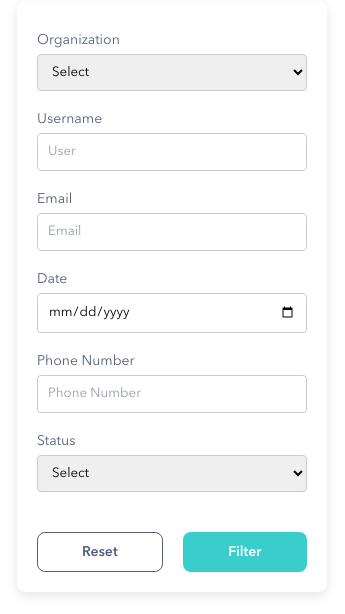
Test case: FilterPopup Component › resets filters on Reset button click
Type "testUser" into the field labelled "Username".
click(172, 152); type("testUser")  # box [37,133,307,171]
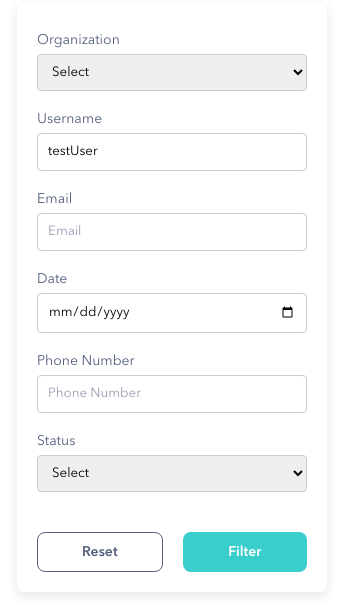
Click the button "Reset".
click(100, 552)  # box [37,532,163,572]
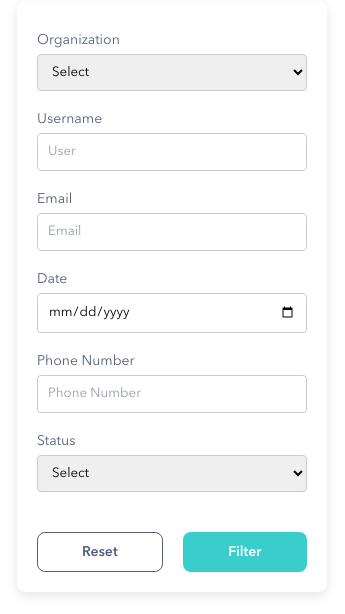
Check: the field labelled "Username" is empty, box [37,133,307,171]
